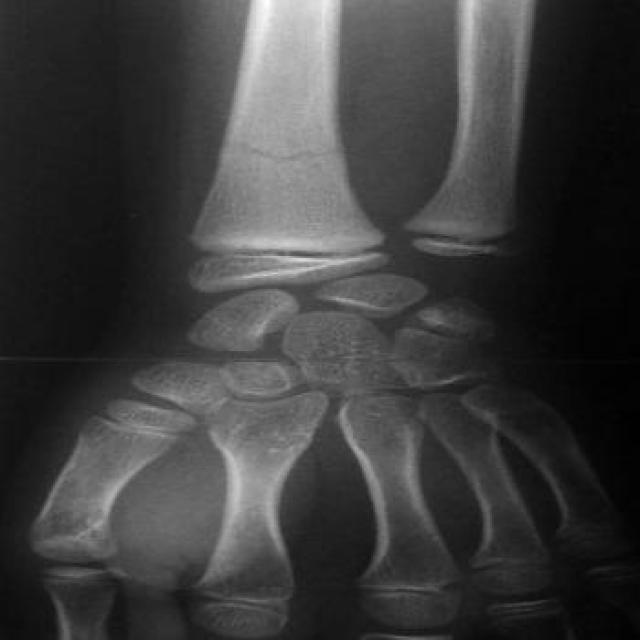Fracture: (203, 134, 373, 174)
